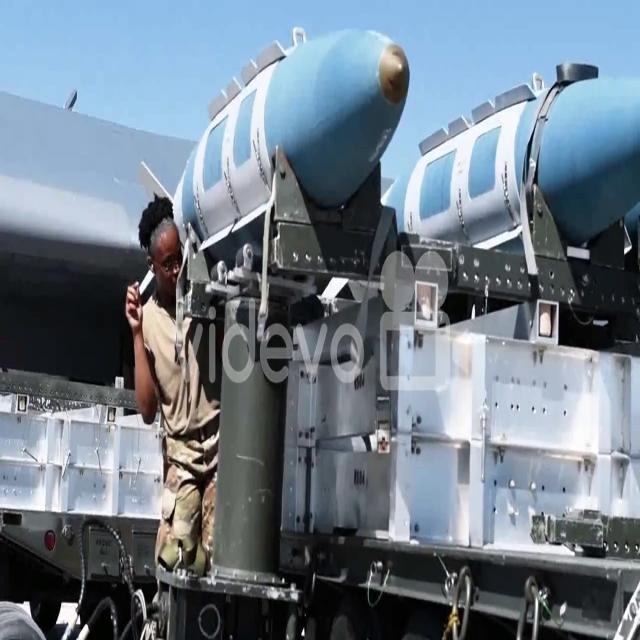rocket: (179, 41, 413, 265), (421, 75, 639, 239)
